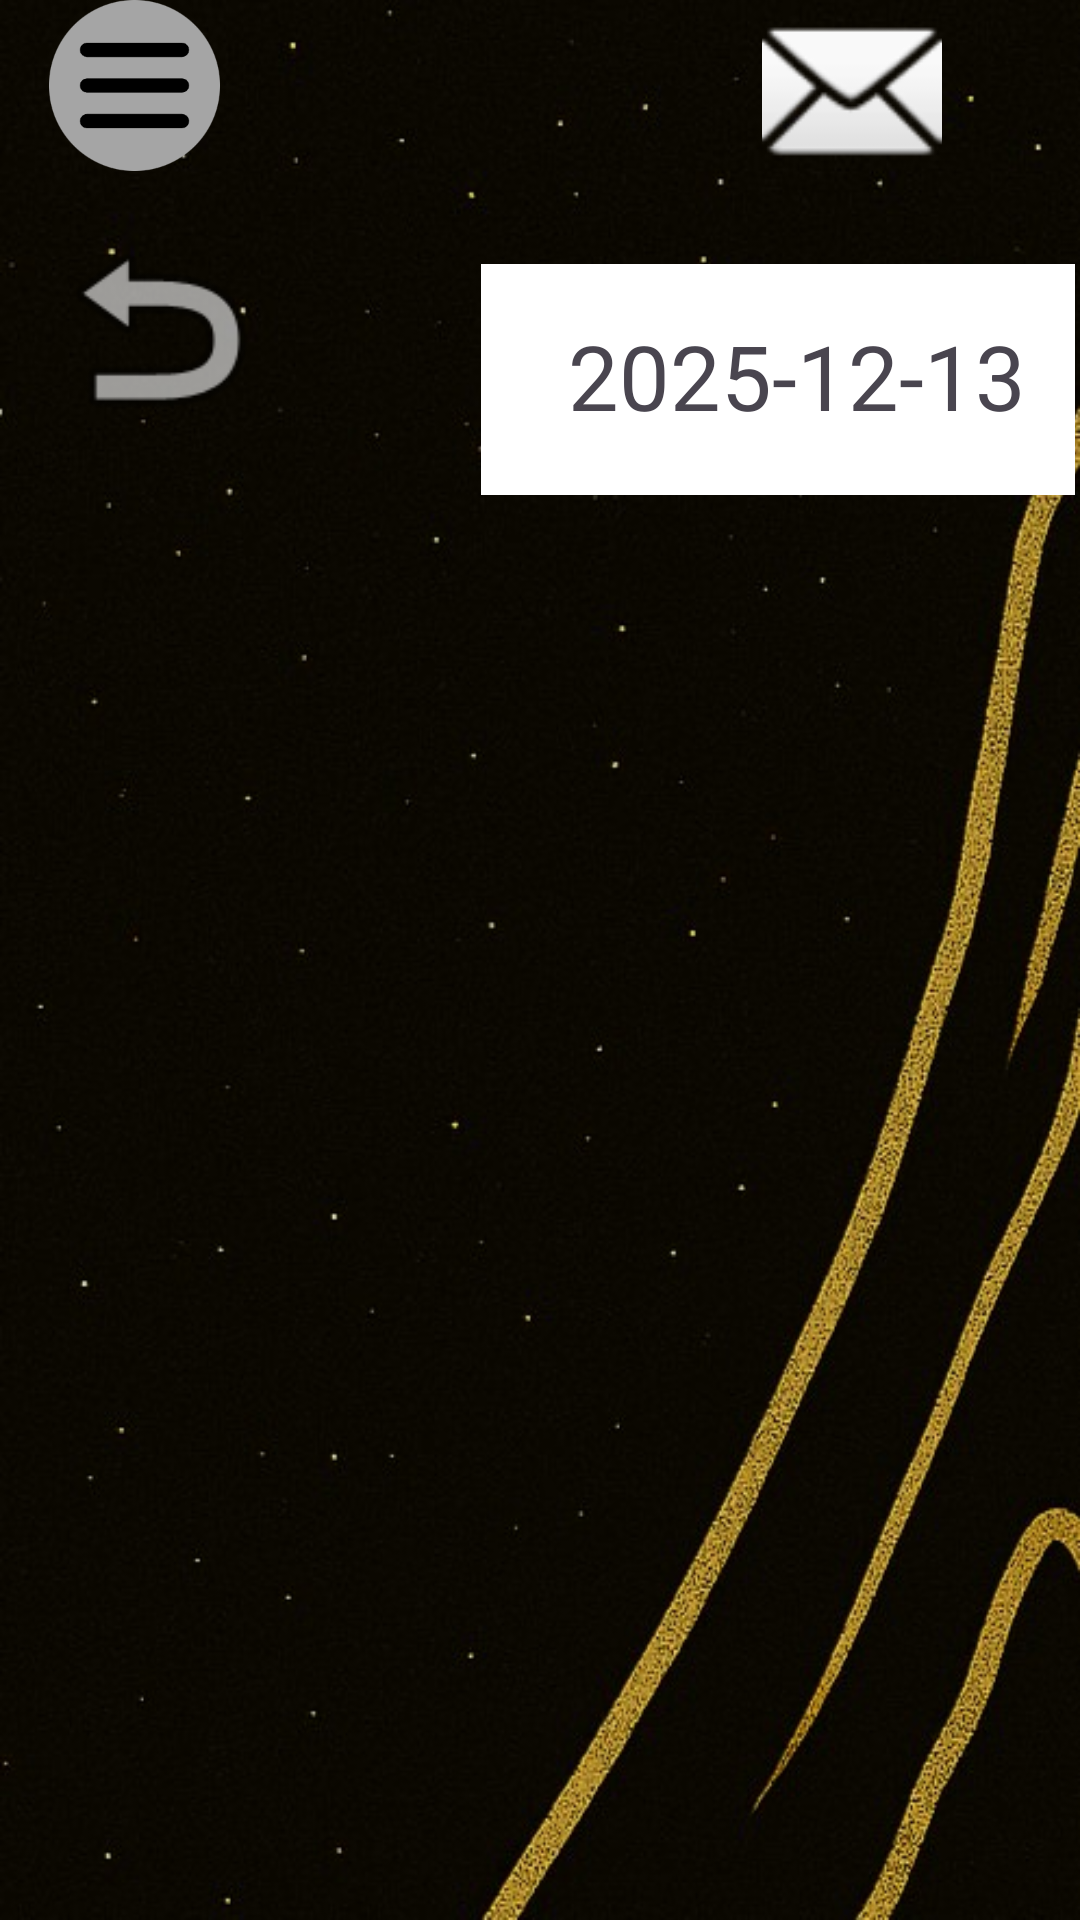

Where icons sit on this 1080×1920 app screen, as (x1, y1, x2, y2):
burger menu: (49, 0, 220, 171)
email: (718, 27, 974, 180)
revert: (83, 248, 246, 423)
